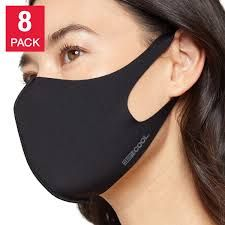with-mask: (9, 14, 205, 204)
